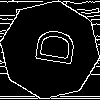D: (25, 25, 76, 68)
